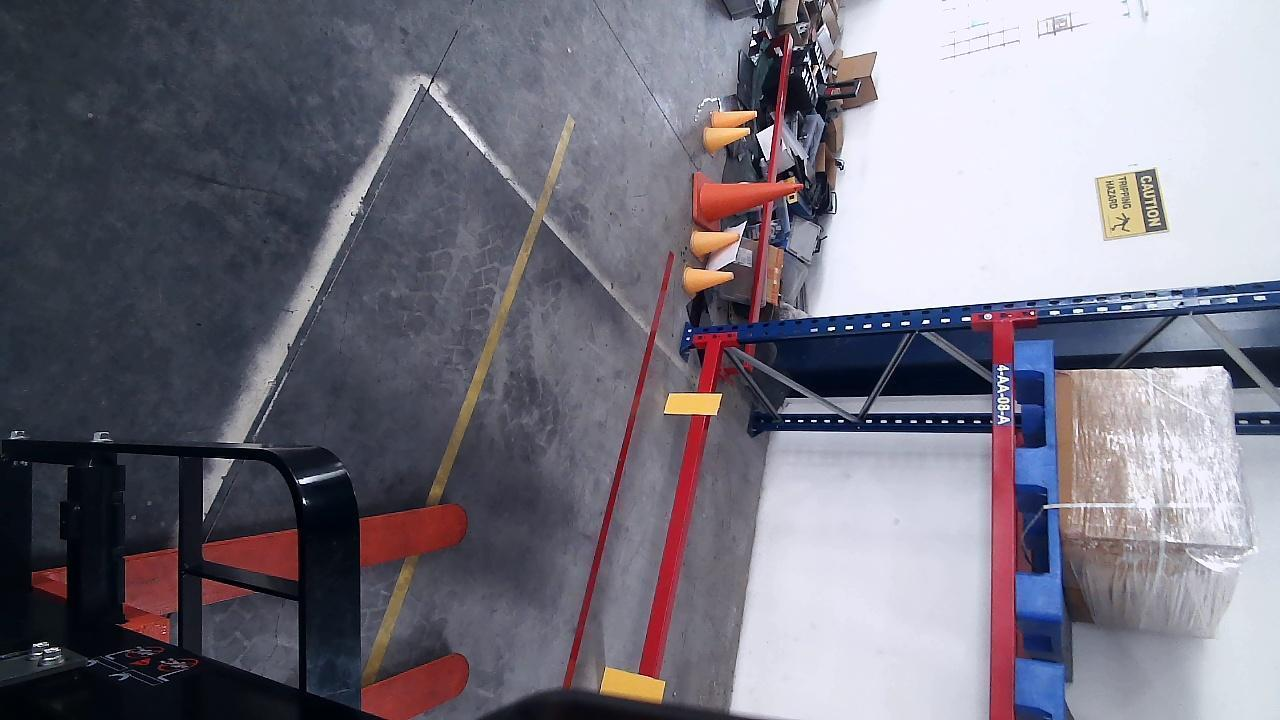red_line: (562, 249, 676, 688)
yellow_line: (357, 113, 580, 685)
